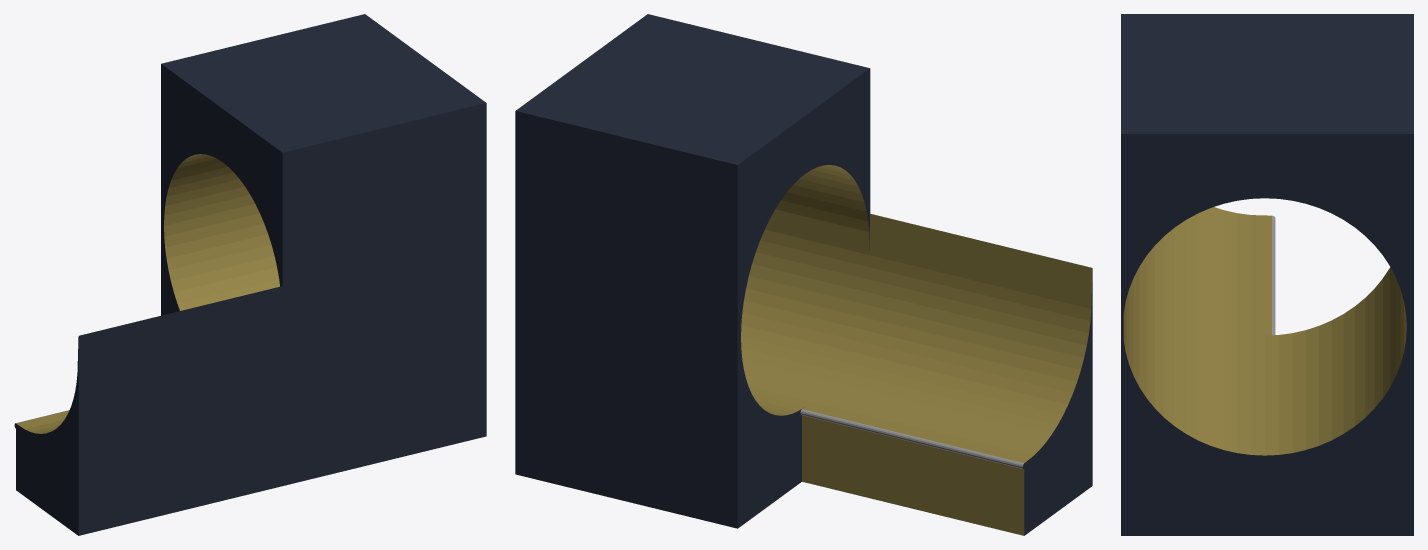
File: Quarterpipe W Loop.fbx
3 views of the same model, side by side, from view 1: azimuth 30°, elevation 25°; view 2: azimuth 150°, elevation 25°; view 3: azimuth 270°, elevation 25° (orthographic). The views are drawn at different scales.
Visible parts, largest first — view 1: Quarterpipe Loop; view 2: Quarterpipe Loop; view 3: Quarterpipe Loop.
Part boxes in pixels (x1,y1,x2,y2): Quarterpipe Loop: (14,14,486,535); Quarterpipe Loop: (515,14,1092,535); Quarterpipe Loop: (1121,14,1413,535).
Bounding box in the file's own units: 3200 × 2500 × 1650.
